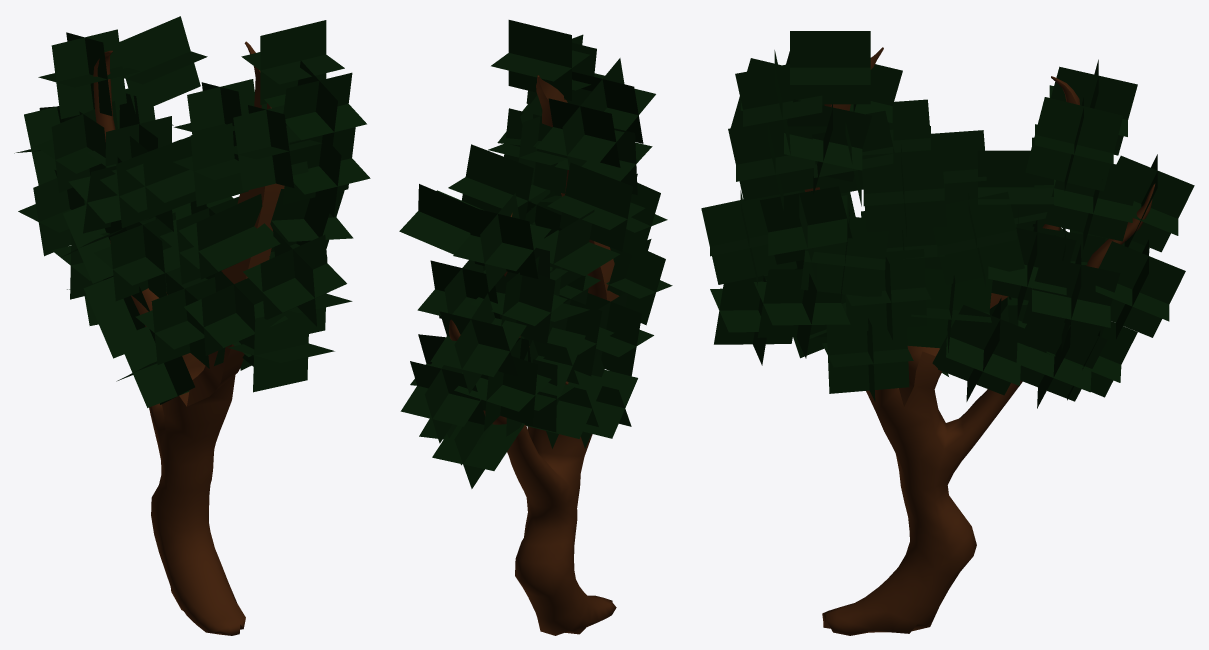
Rendered from Frangipanier_1V3_low.fbx.
3 renders of one model, left to right at view 1: azimuth 30°, elevation 25°; view 2: azimuth 150°, elevation 25°; view 3: azimuth 270°, elevation 25°, orthographic. The views are drawn at different scales.
Visible parts, largest first — view 1: Plane053_high, Trunk_high; view 2: Plane053_high, Trunk_high; view 3: Plane053_high, Trunk_high.
Part boxes in pixels (x1,y1,x2,y2): Plane053_high: (14, 16, 370, 407); Trunk_high: (93, 41, 284, 635); Plane053_high: (399, 20, 672, 488); Trunk_high: (449, 75, 619, 635); Plane053_high: (701, 31, 1194, 408); Trunk_high: (804, 47, 1155, 635).
Bounding box in the file's own units: 562 × 1800 × 1285.
